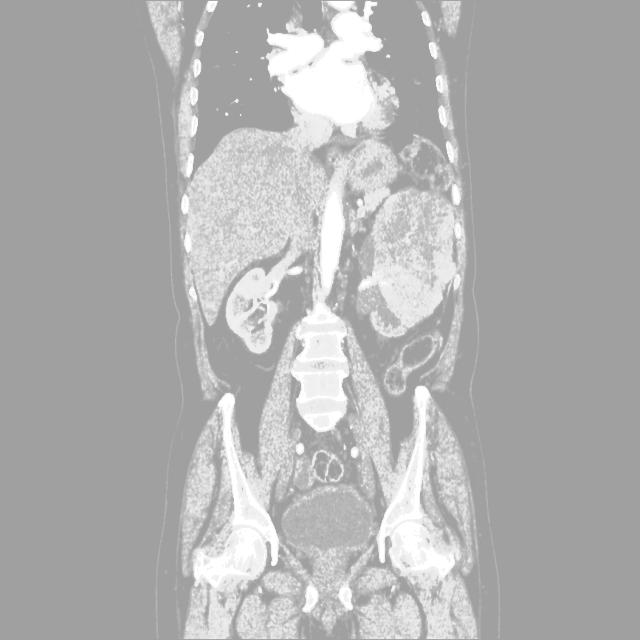TUMOR: (143, 159, 474, 393)
